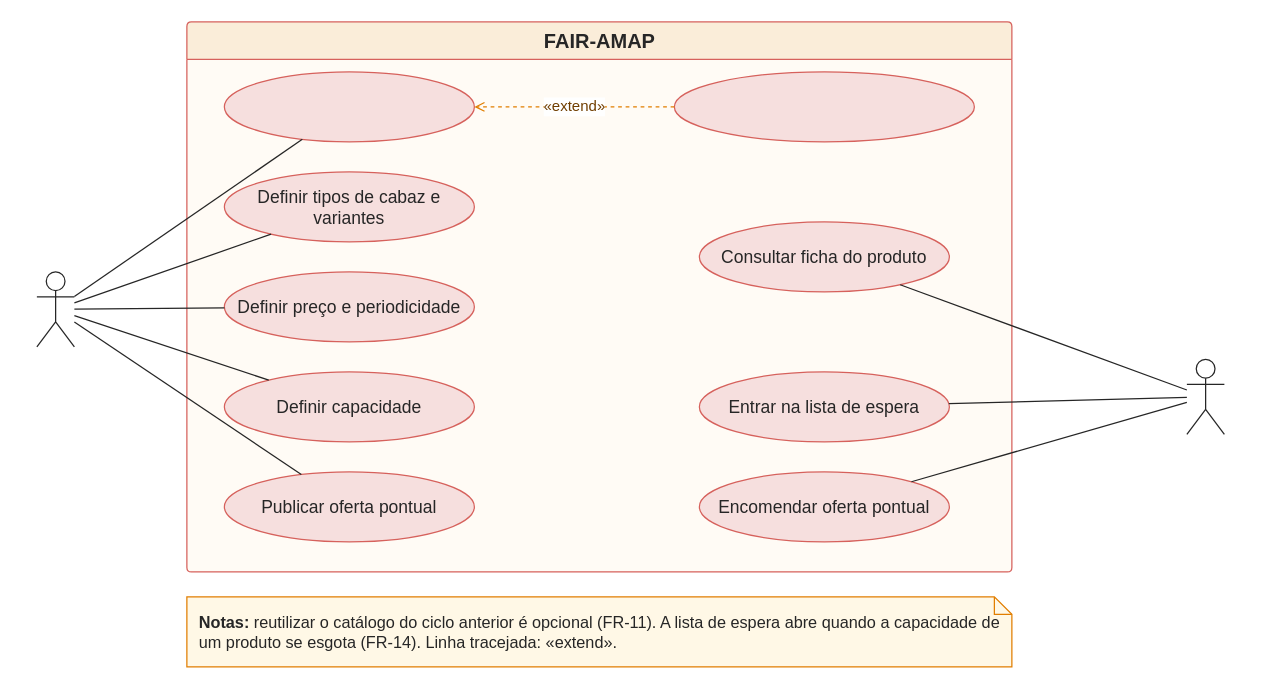
The diagram is 1270 pixels wide and 689 high, and some of its shapes have lost their labels. The shapes that lost their labels are listed below. From the top down, each one's centre as x and y in pixels, then its label:
At point (348, 106): "Gerir catálogo".
At point (823, 106): "Reutilizar catálogo do ciclo anterior".
At point (55, 309): "Produtor".
At point (1205, 396): "Coprodutor".
